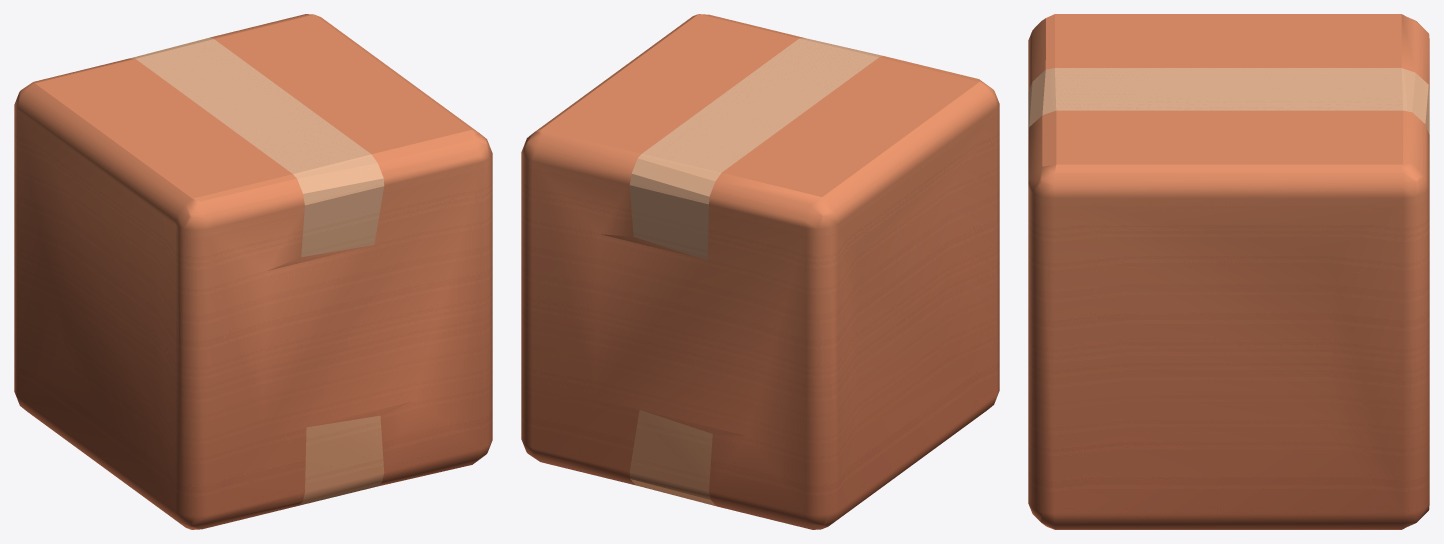
File: kenney-survival__box.glb
3 views of the same model, side by side, from view 1: azimuth 30°, elevation 25°; view 2: azimuth 150°, elevation 25°; view 3: azimuth 270°, elevation 25° (orthographic). The views are drawn at different scales.
Visible parts, largest first — view 1: box; view 2: box; view 3: box.
Part boxes in pixels (x1,y1,x2,y2): box: (14, 14, 492, 529); box: (521, 14, 999, 529); box: (1028, 14, 1429, 529).
Size of the model in its own units: 0.2478 by 0.25 by 0.2489.
Materials: 1 (1 with a texture image).
